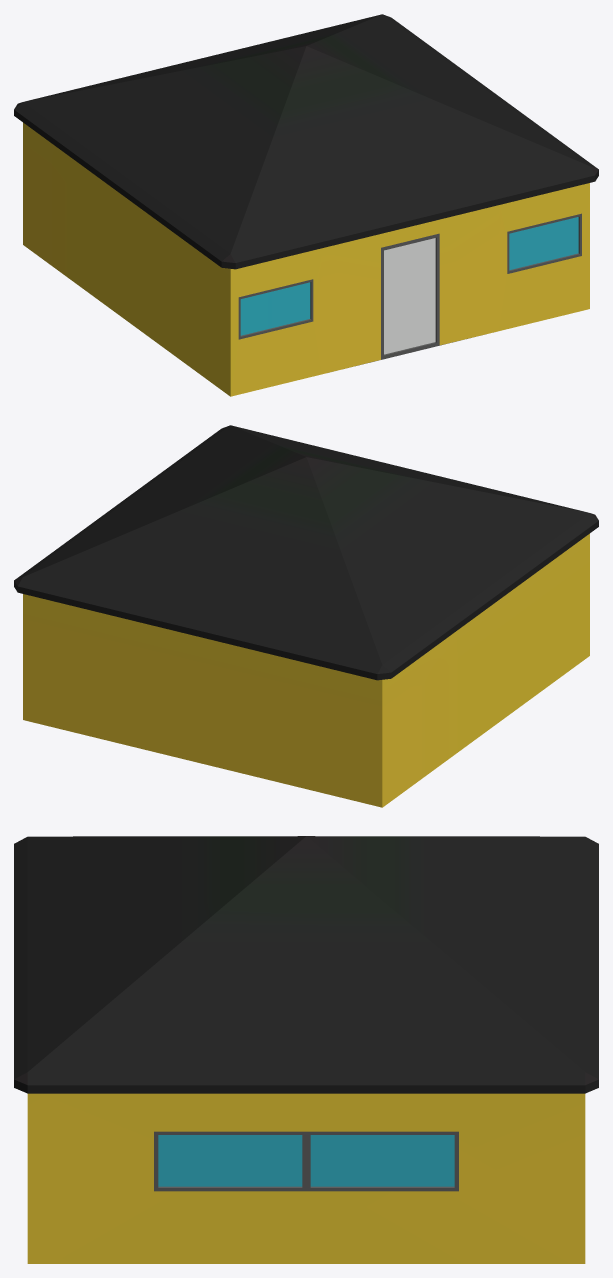
The model's file is House.fbx.
3 renders of one model, top to bottom at view 1: azimuth 30°, elevation 25°; view 2: azimuth 150°, elevation 25°; view 3: azimuth 270°, elevation 25°, orthographic. The views are drawn at different scales.
Visible parts, largest first — view 1: House1; view 2: House1; view 3: House1.
Boxes of the visible parts, x1,y1,x2,y2 form: House1: [14, 14, 598, 396]; House1: [14, 425, 598, 807]; House1: [14, 836, 598, 1263].
Size of the model in its own units: 850 by 497 by 850.
